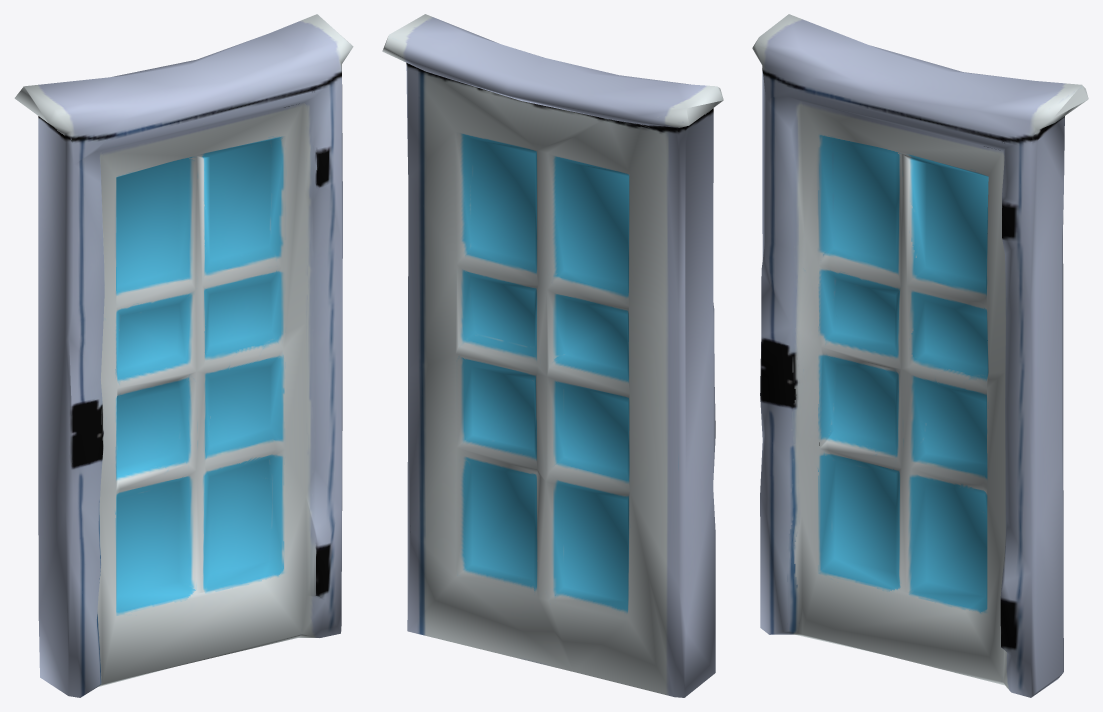
Rendered from glass-french-door.glb.
3 views of the same model, side by side, from view 1: azimuth 30°, elevation 25°; view 2: azimuth 150°, elevation 25°; view 3: azimuth 330°, elevation 25° (orthographic).
Parts seen in each view (by area): view 1: geometry_0.001; view 2: geometry_0.001; view 3: geometry_0.001.
Part boxes in pixels (x1,y1,x2,y2): geometry_0.001: (14,14,353,697); geometry_0.001: (382,14,723,697); geometry_0.001: (752,14,1088,697).
Size of the model in its own units: 0.5368 by 1 by 0.1433.
1 material, 1 textured.
